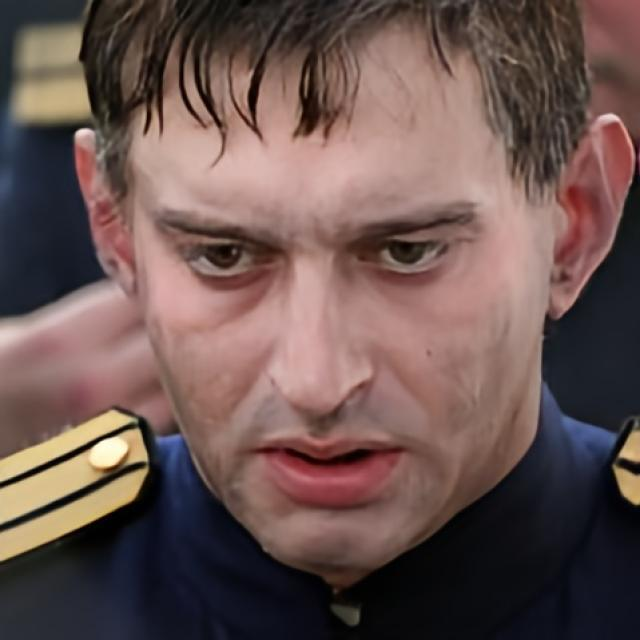fear: (138, 36, 536, 568)
